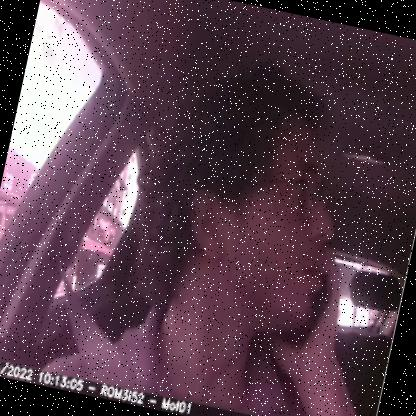phone: (277, 267, 338, 354)
